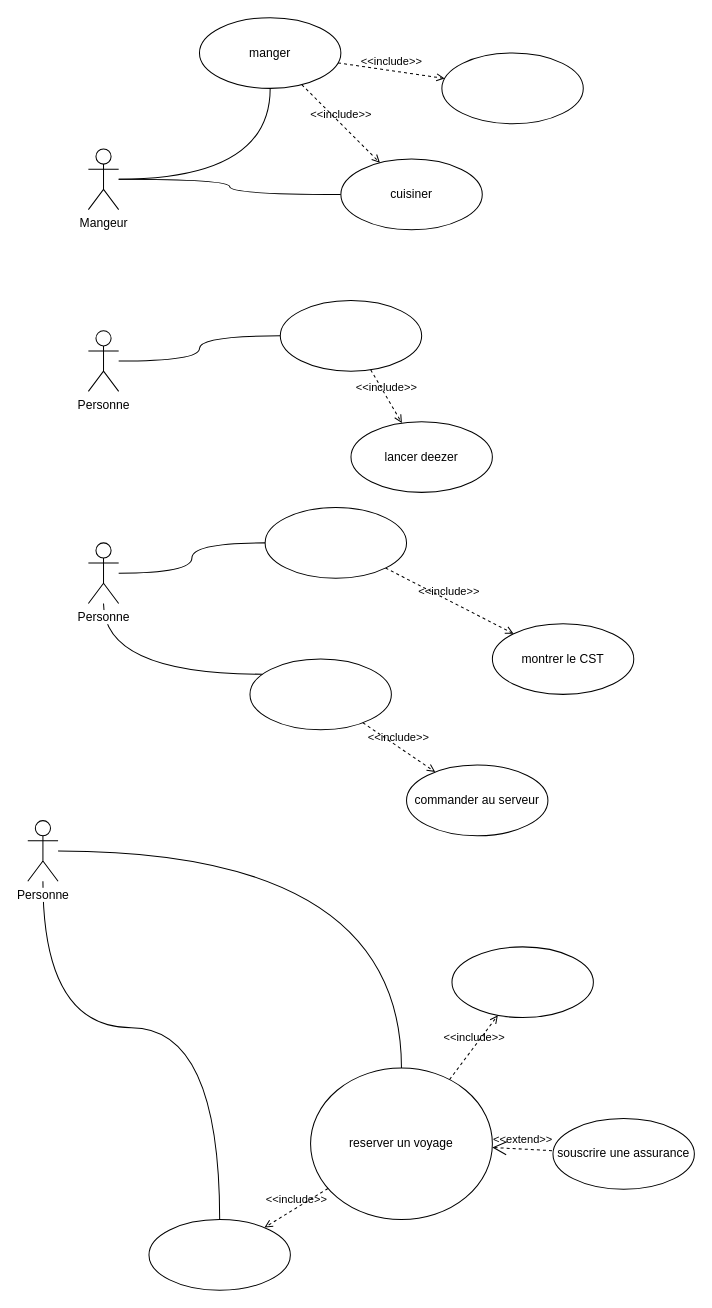
This 712x1308 diagram has some shape labels left out. The shapes that lost their labels are listed below. From the top down, each one's centre as x and y in pixels, then its label:
At point 512,88: "prendre les couverts".
At point 350,335: "écouter de la musique".
At point 335,542: "entrer et s'asseoir dans un resto".
At point 320,694: "manger dans le resto".
At point 522,982: "payer le voyage".
At point 219,1254: "rechercher voyage".
